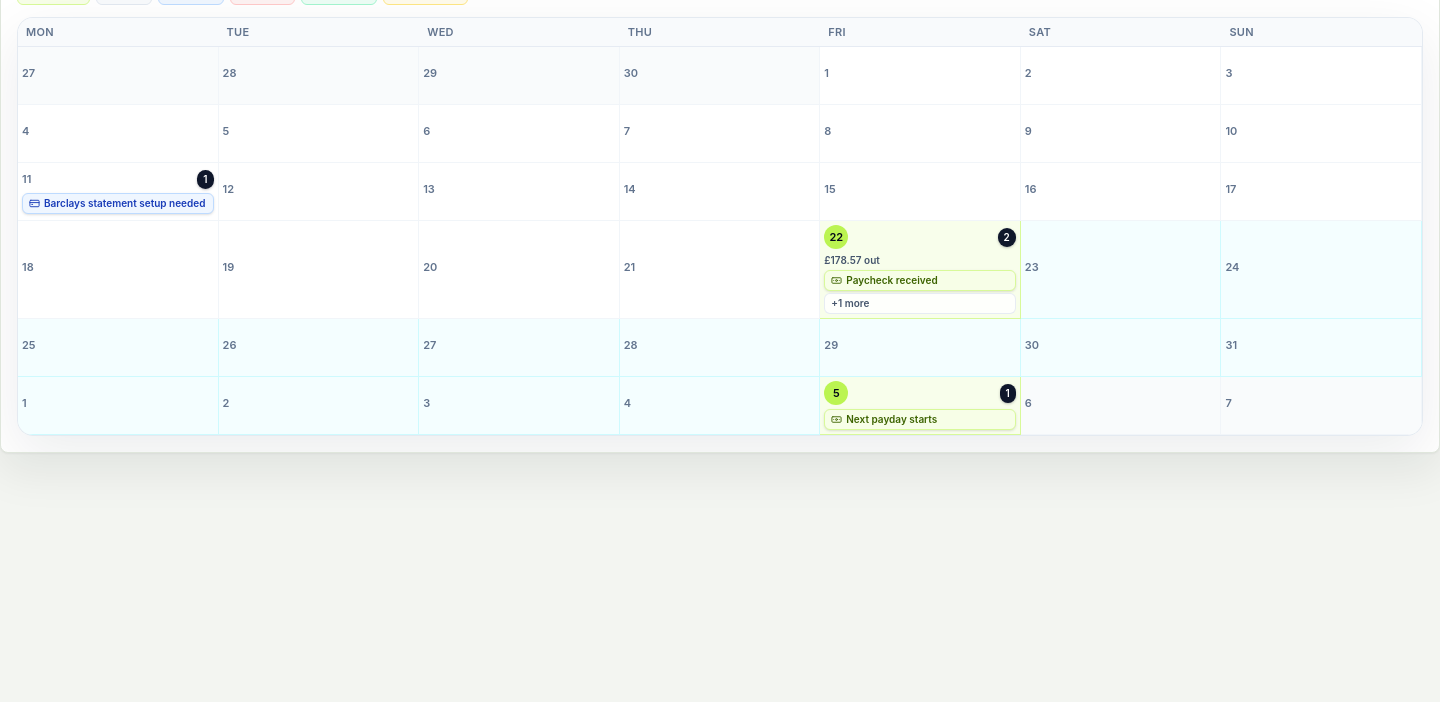
Test: calendar page › shows the payment breakdown inside a completed linked-card pot allocation event
This screenshot has width=1440, height=702.
Click the button with aria-label "Open 22 May 2026": click(921, 270) [820,221,1021,319]
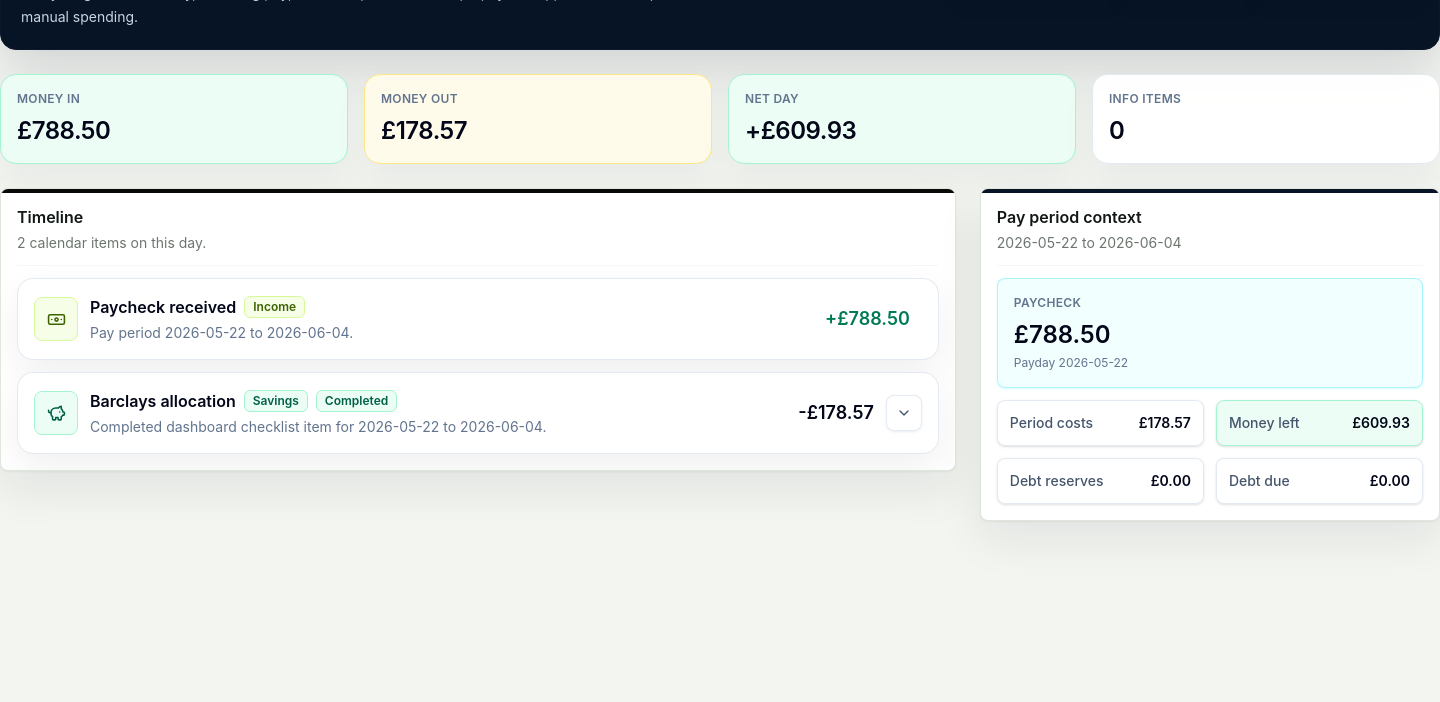
Check: the text "Barclays allocation" is shown, box [90,391,236,411]
Check: the text "Completed" is shown, box [316,390,397,412]
Click the button named "Show breakdown for Barclays allocation -£178.57": click(904, 413) [886,395,922,431]
(page scrolled)
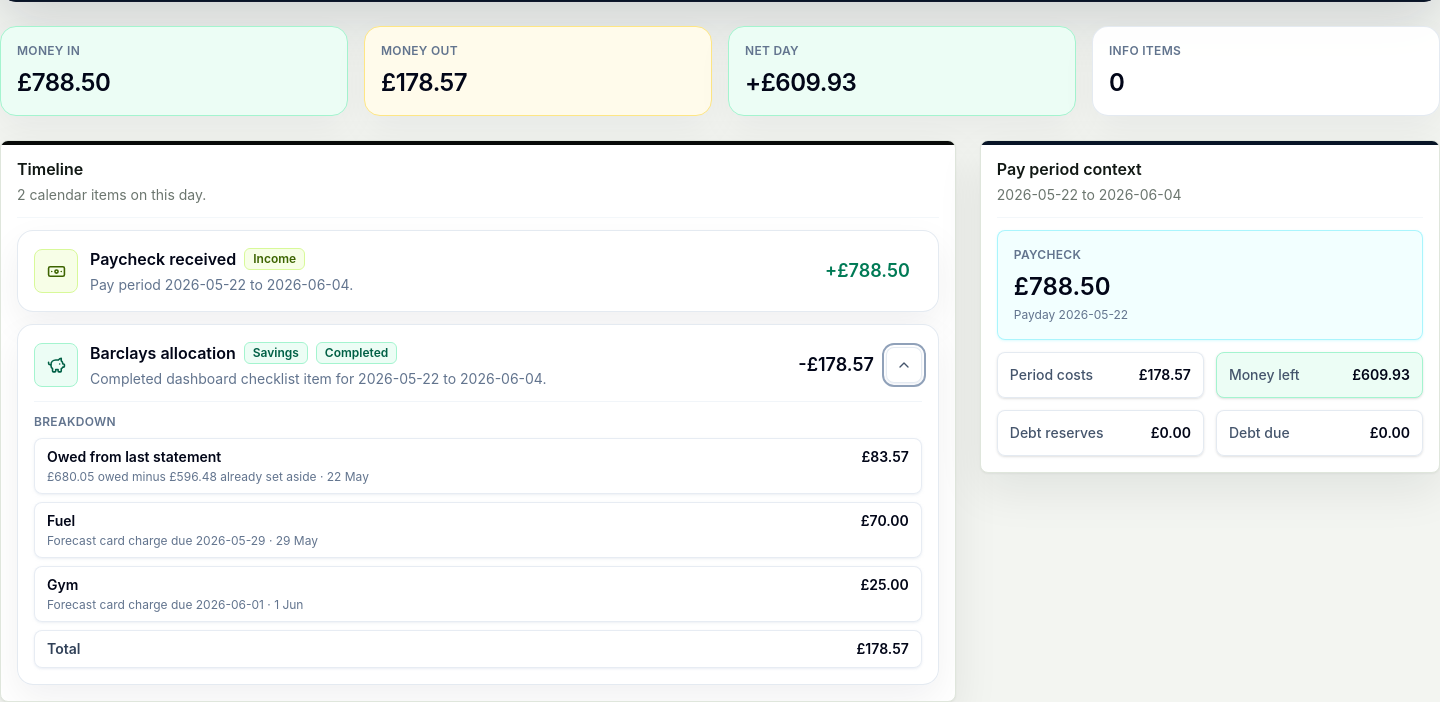
Check: the text "Owed from last statement" is shown, box [47,448,221,465]
Check: the text "Fuel" is shown, box [47,512,75,529]
Check: the text "Gym" is shown, box [47,576,78,593]
